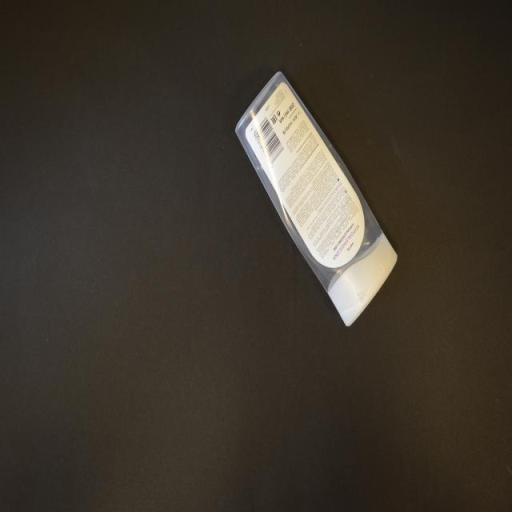plastic: (230, 64, 400, 330)
